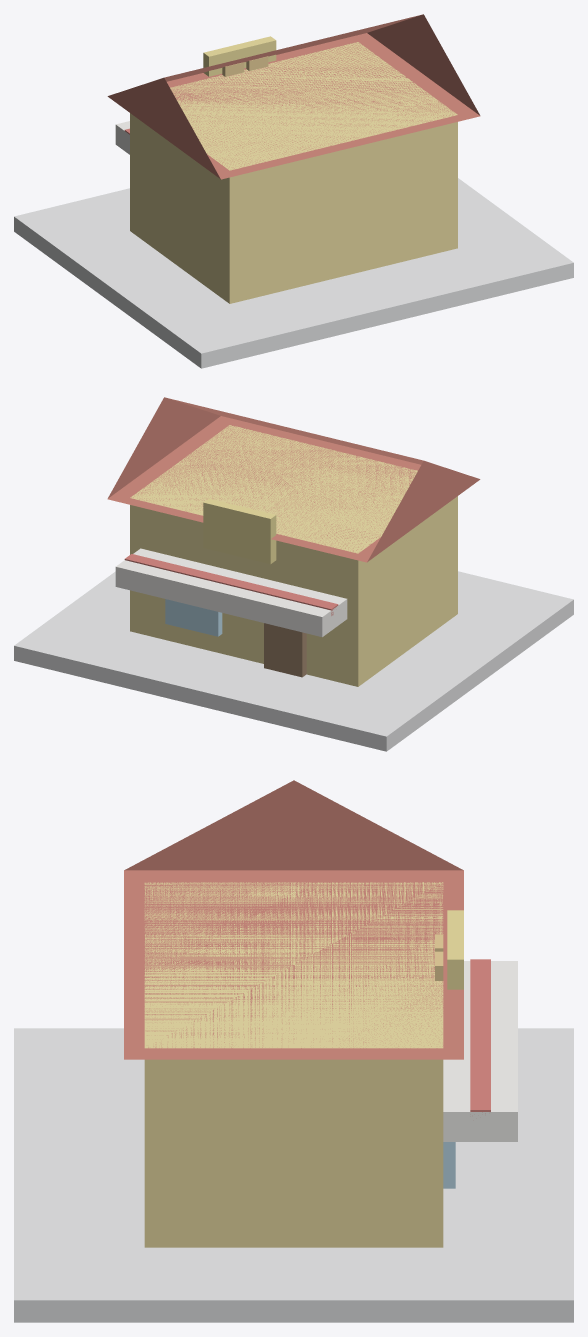
The model's file is bakery.glb.
The picture shows the model from 3 angles, top to bottom: view 1: azimuth 30°, elevation 25°; view 2: azimuth 150°, elevation 25°; view 3: azimuth 270°, elevation 25°; orthographic projection. The views are drawn at different scales.
Visible parts, largest first — view 1: body, base, roof, bread_sign; view 2: body, base, roof, awning, bread_sign, door, awning_stripe, window; view 3: body, base, roof, awning, awning_stripe, bread_sign.
Boxes of the visible parts, bbox=[...] form: body: bbox=[130, 42, 457, 303]; base: bbox=[14, 178, 573, 368]; roof: bbox=[107, 14, 480, 179]; bread_sign: bbox=[203, 36, 276, 76]; body: bbox=[130, 425, 457, 686]; base: bbox=[14, 571, 573, 751]; roof: bbox=[107, 397, 480, 562]; awning: bbox=[115, 548, 347, 637]; bread_sign: bbox=[203, 498, 276, 564]; door: bbox=[264, 623, 306, 677]; awning_stripe: bbox=[124, 554, 338, 615]; window: bbox=[165, 599, 222, 636]; body: bbox=[144, 882, 443, 1247]; base: bbox=[14, 1028, 573, 1322]; roof: bbox=[124, 780, 463, 1059]; awning: bbox=[443, 961, 517, 1141]; awning_stripe: bbox=[470, 959, 490, 1113]; bread_sign: bbox=[447, 910, 463, 989].
Size of the model in its own units: 1.55 by 0.83 by 1.35.
